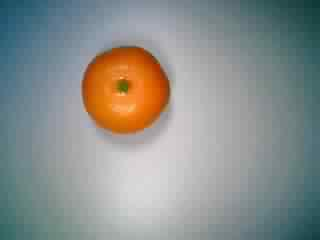orange: (76, 43, 172, 139)
